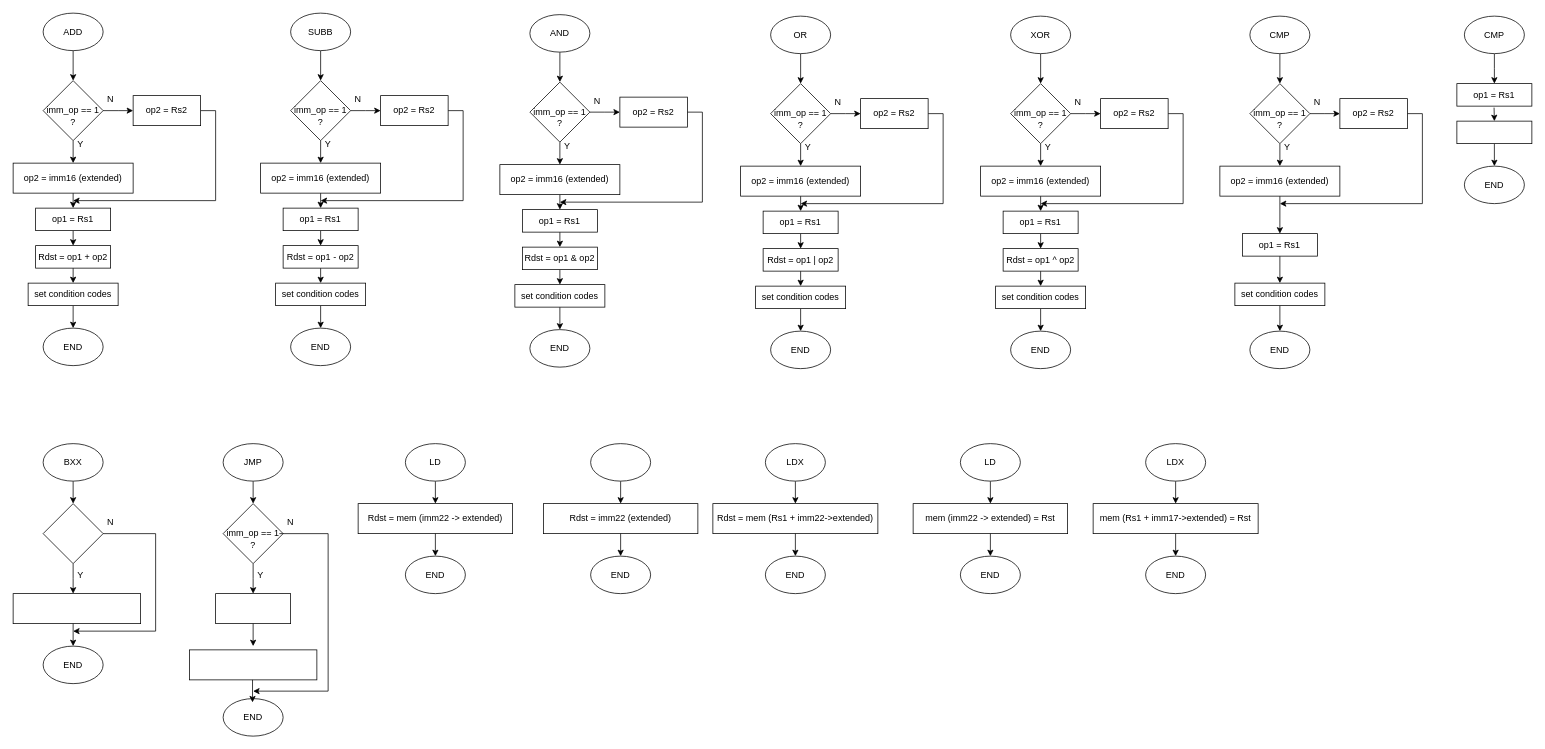
Image size: 1545x749. Some labels were removed from this diagram. Here are the shapes that lost their labels. From the top down, the box of each, then its label:
(1456, 120, 1532, 144): Rdst = ~op1
(590, 443, 651, 481): LDI
(42, 503, 103, 564): branch checked ?
(12, 593, 141, 624): PC = PC + imm23 (extended)
(215, 593, 291, 624): Rdst = PC
(189, 649, 317, 680): PC = Rs1 + imm16 (extended)
